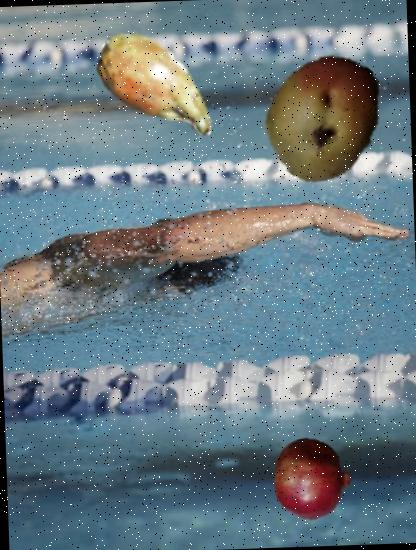Cactus: (87, 15, 231, 159)
Papaya: (256, 49, 393, 186)
Pomegranate: (270, 436, 356, 522)
